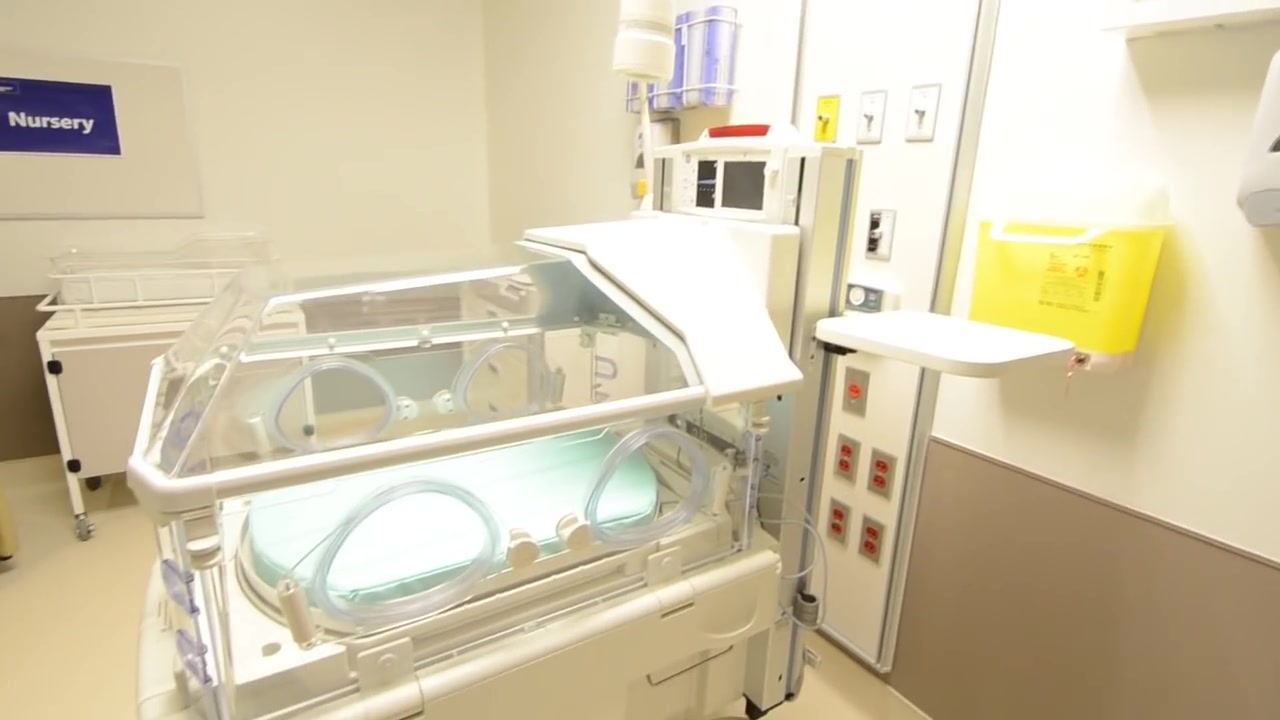dispenser: (625, 8, 740, 111), (1235, 46, 1280, 231), (633, 123, 675, 193)
incubator: (126, 218, 800, 720)
medical_waste_container: (966, 175, 1172, 375)
